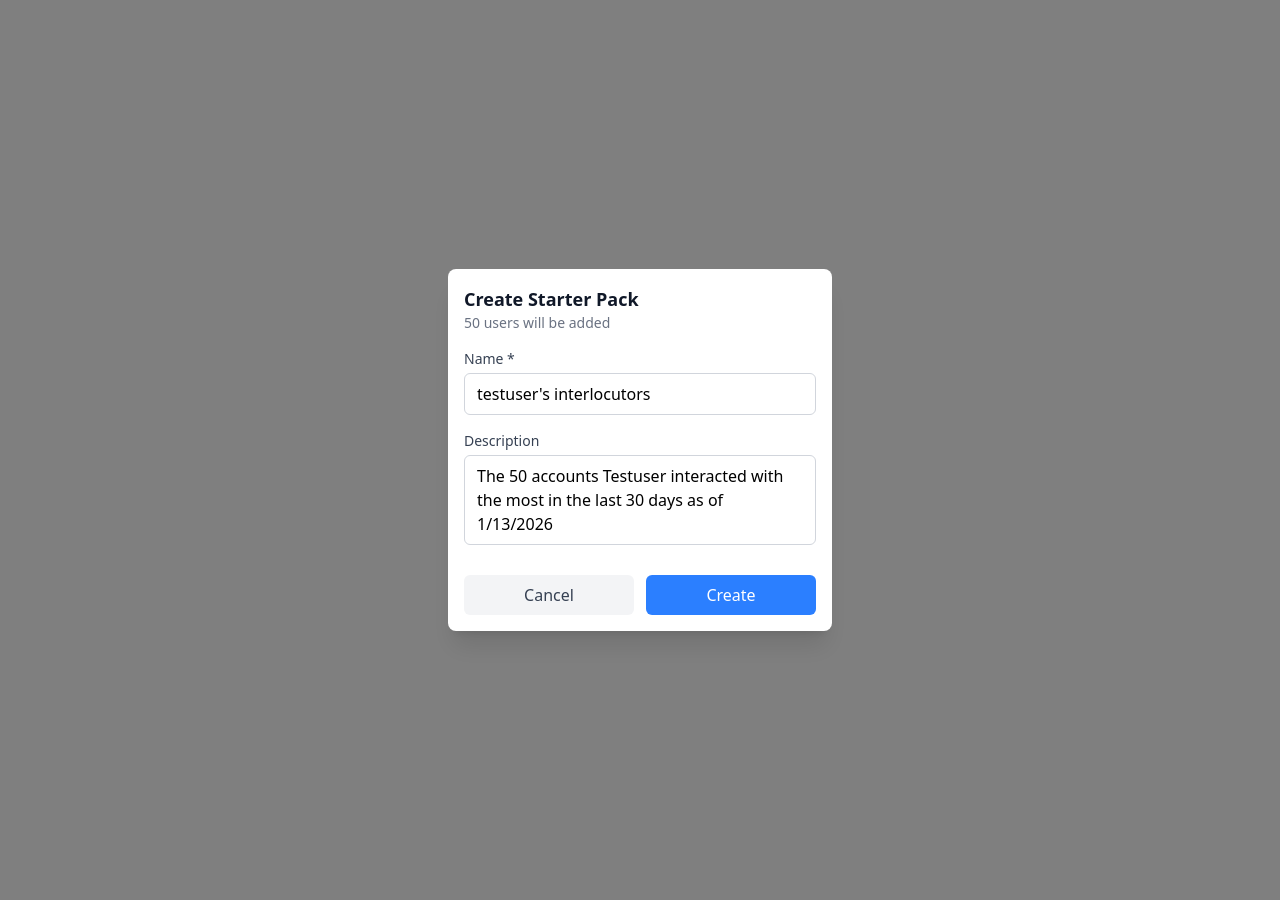
Test: PublishModal › disables create button when name is cleared
This screenshot has width=1280, height=900.
Clear the field labelled "Name *". click: point(640, 394)
box: [464,373,816,415]
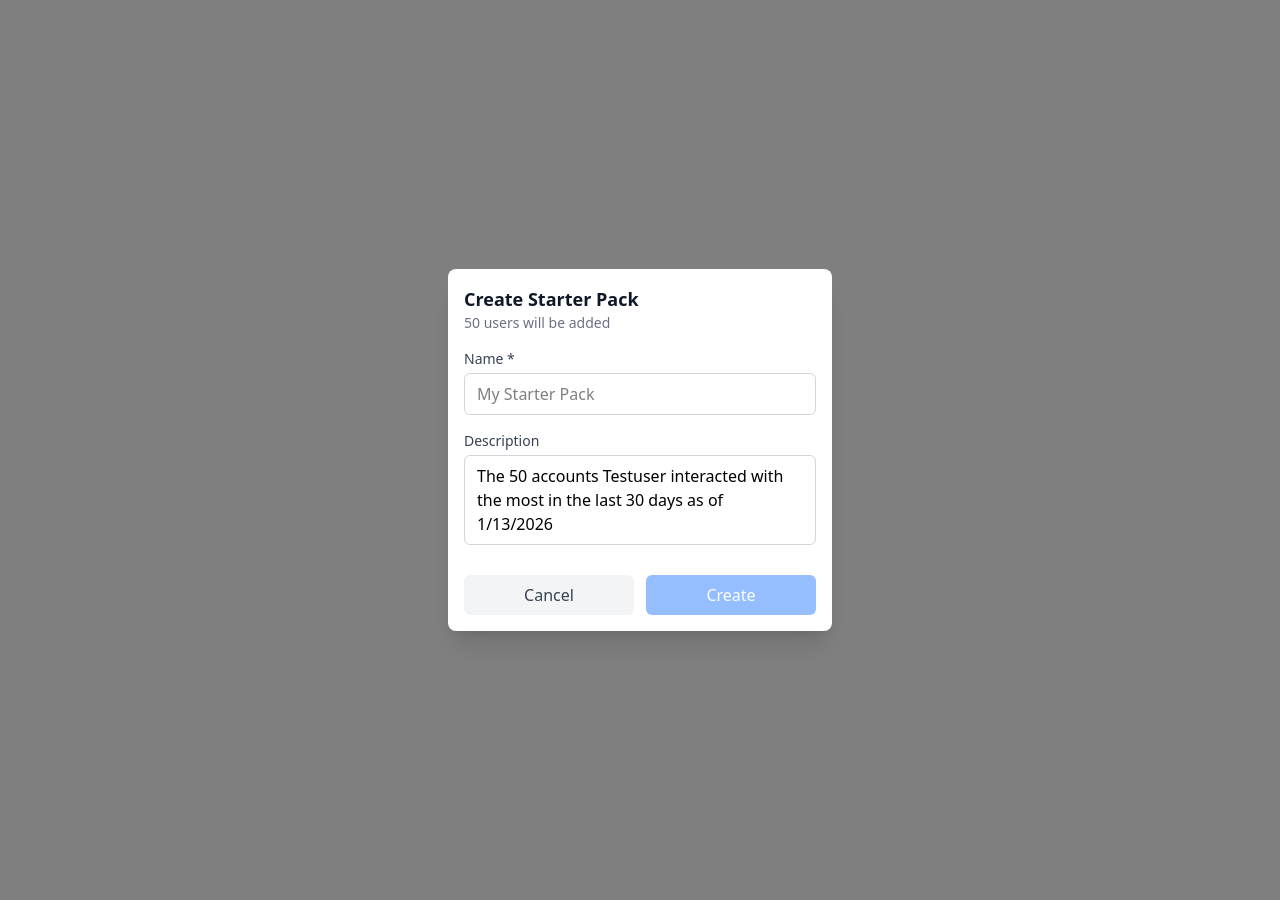
Expected: the button "Create" is disabled, [646,575,816,615]
